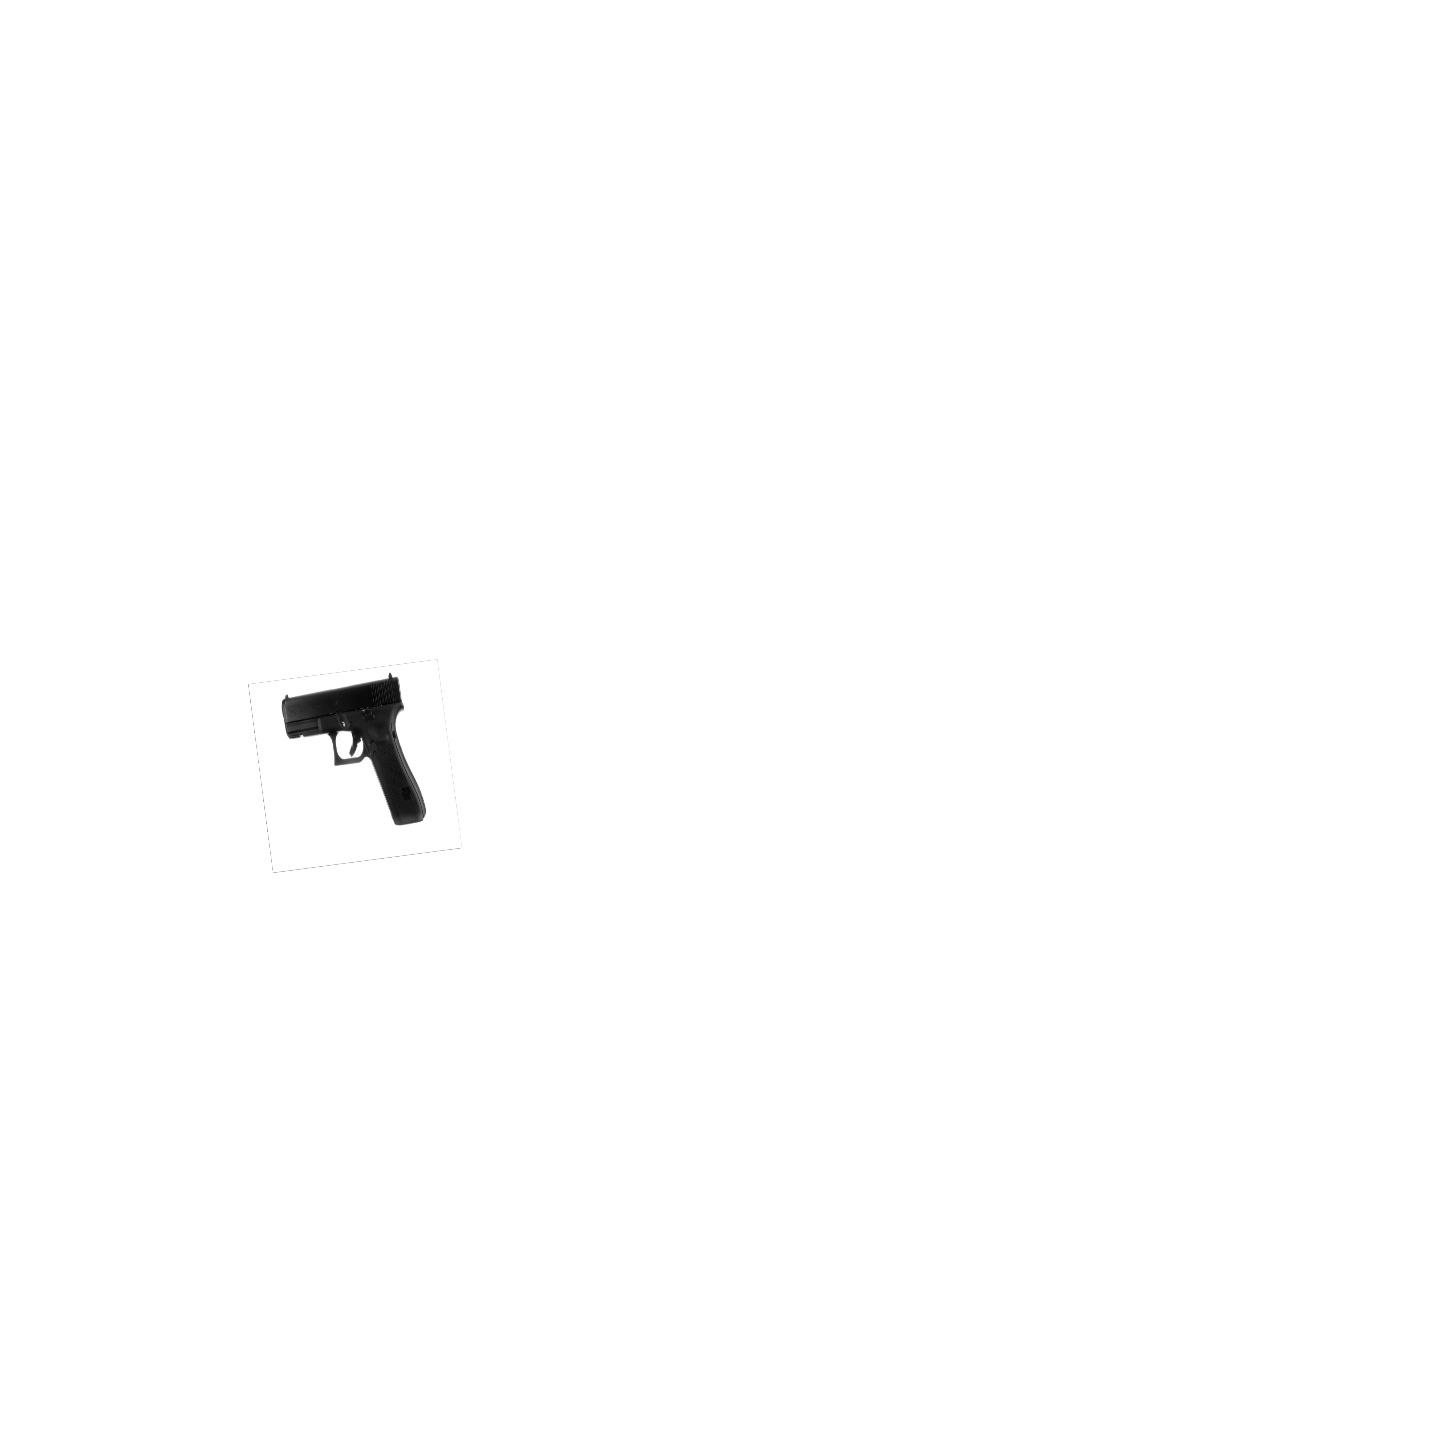gun: (271, 669, 435, 836)
